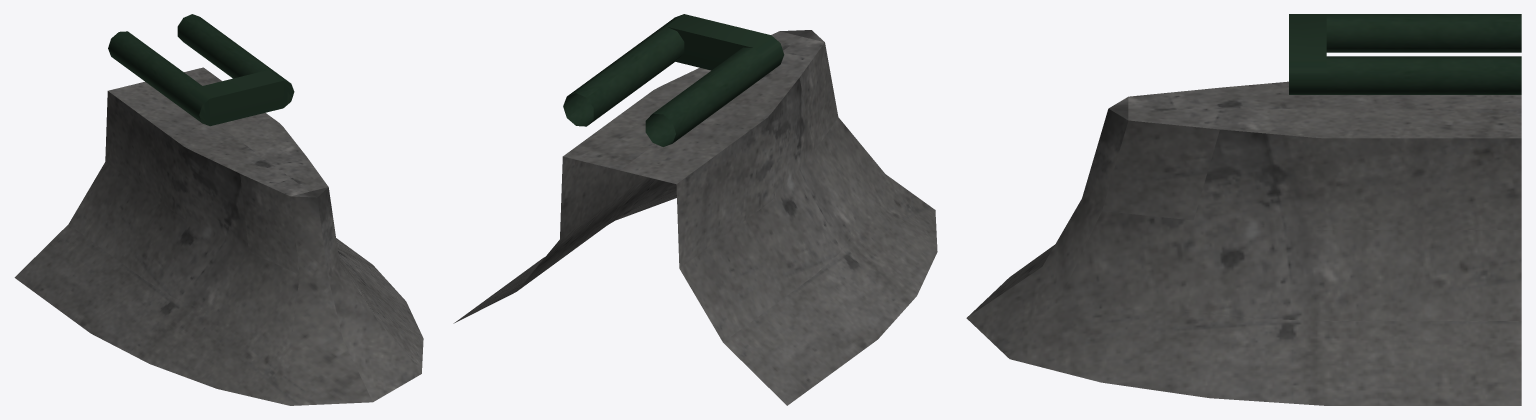
File: gore.fbx
3 renders of one model, left to right at view 1: azimuth 30°, elevation 25°; view 2: azimuth 150°, elevation 25°; view 3: azimuth 270°, elevation 25°, orthographic. The views are drawn at different scales.
Parts seen in each view (by area): view 1: 对象001; view 2: 对象001; view 3: 对象001.
Part boxes in pixels (box(x1,y1,x2,y2)): 对象001: box(14, 14, 423, 405); 对象001: box(453, 14, 937, 405); 对象001: box(966, 14, 1521, 405).
Size of the model in its own units: 157 by 117 by 210.
